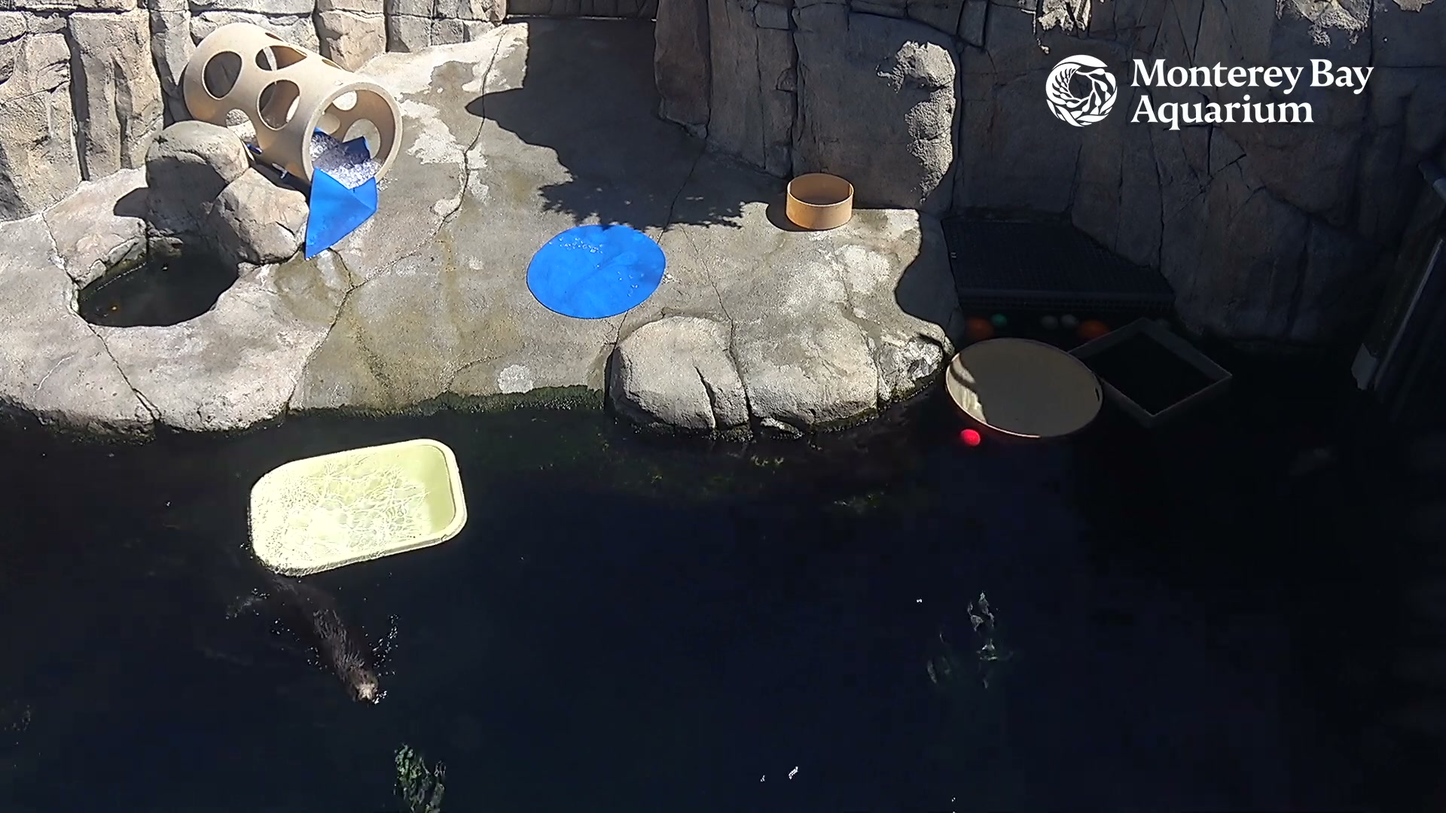Southern Sea Otter: (269, 531, 416, 735)
